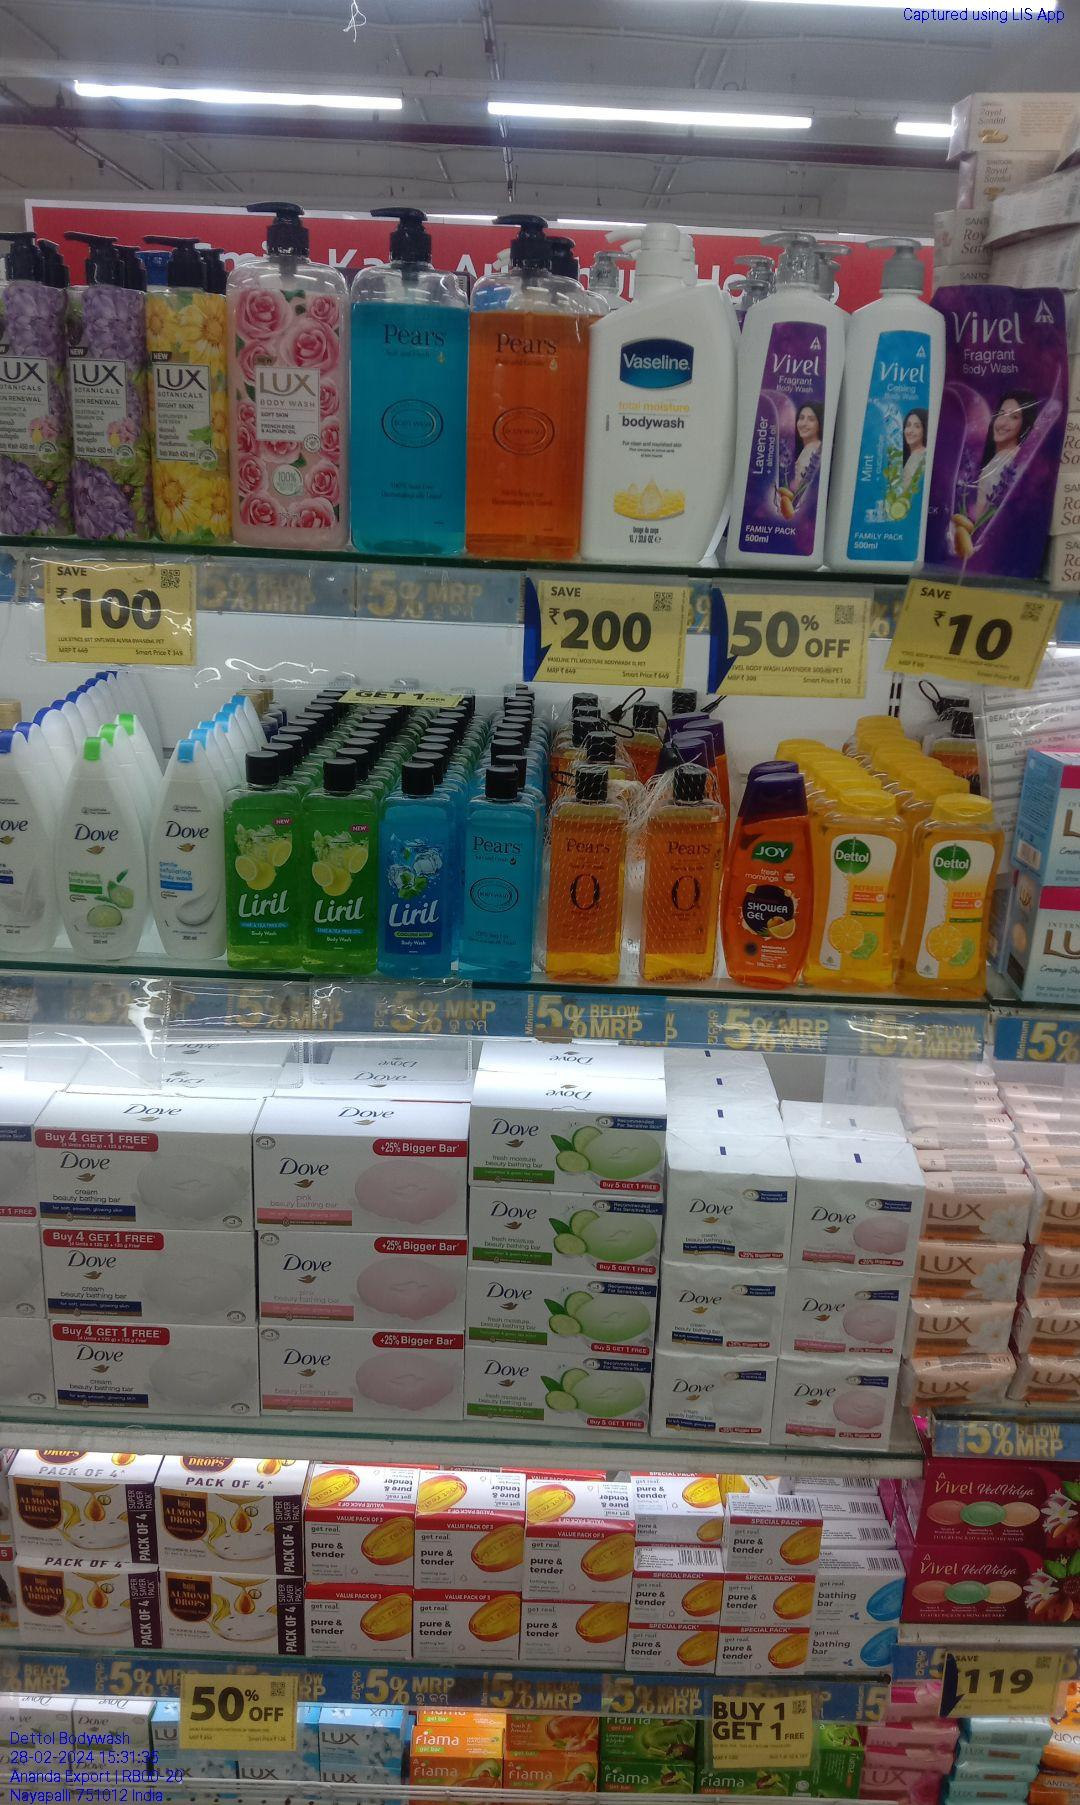Dettol_Bodywash_Refresh: (914, 802, 999, 1012), (816, 789, 897, 1000)
Dove_Gentle_Exfoliating_Body_Wash_250ML: (157, 743, 221, 972)
Dove_Refreshing_Body_Wash_250ML: (60, 737, 149, 963)
Joy_Shower_Gel_Mandarin_and_Lemongrass_250ML: (723, 771, 809, 994)
Liril_Cooling_Mint_Body_Wash_250ML: (381, 764, 454, 982)
Liril_Lime_and_Tea_Tree_Oil_Body_Wash_250ML: (224, 756, 301, 969), (306, 759, 375, 976)
Pears_Pure_Glycerin_and_Mint_Extracts_Body_Wash_250ML: (460, 765, 537, 985)
